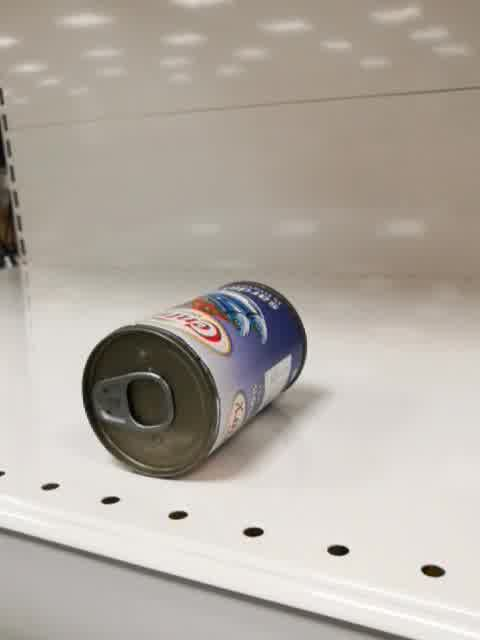sardine: (81, 280, 307, 479)
